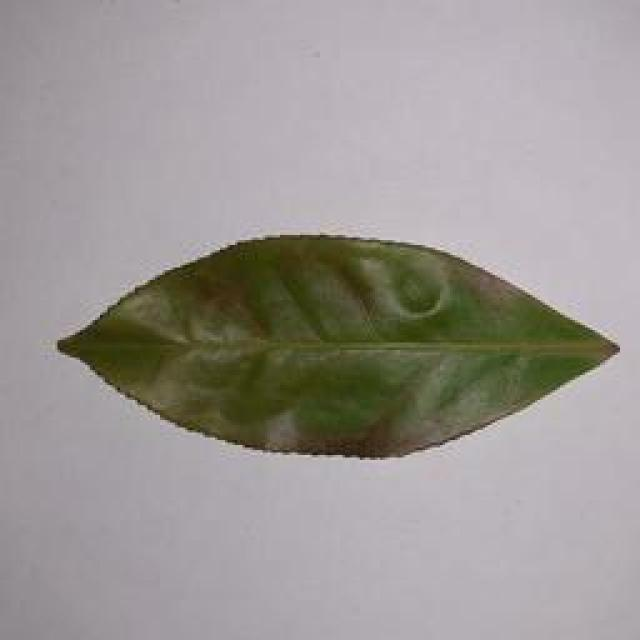Red Leaf Spot: (51, 222, 630, 486)
